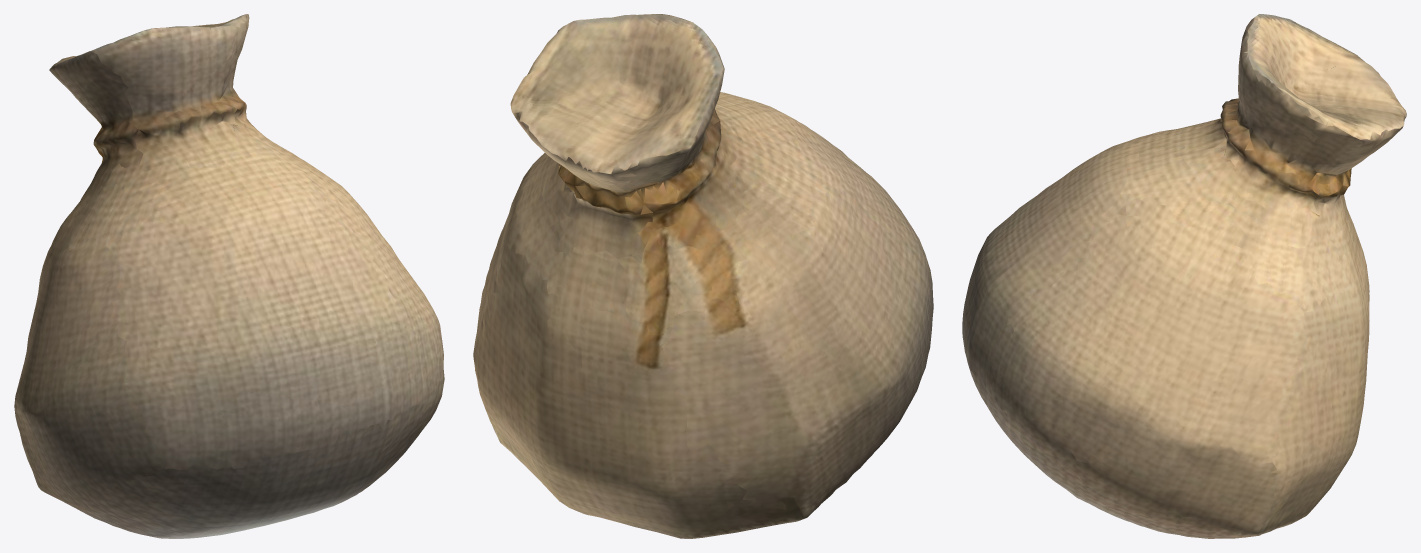
Rendered from sack.glb.
3 views of the same model, side by side, from view 1: azimuth 30°, elevation 25°; view 2: azimuth 150°, elevation 25°; view 3: azimuth 270°, elevation 25° (orthographic). The views are drawn at different scales.
Visible parts, largest first — view 1: geometry_0; view 2: geometry_0; view 3: geometry_0.
Part boxes in pixels (x1=…): geometry_0: x1=14, y1=14, x2=444, y2=538; geometry_0: x1=473, y1=14, x2=933, y2=538; geometry_0: x1=962, y1=14, x2=1406, y2=538.
Bounding box in the file's own units: 0.761 × 0.9236 × 0.7779.
1 material, 1 textured.
